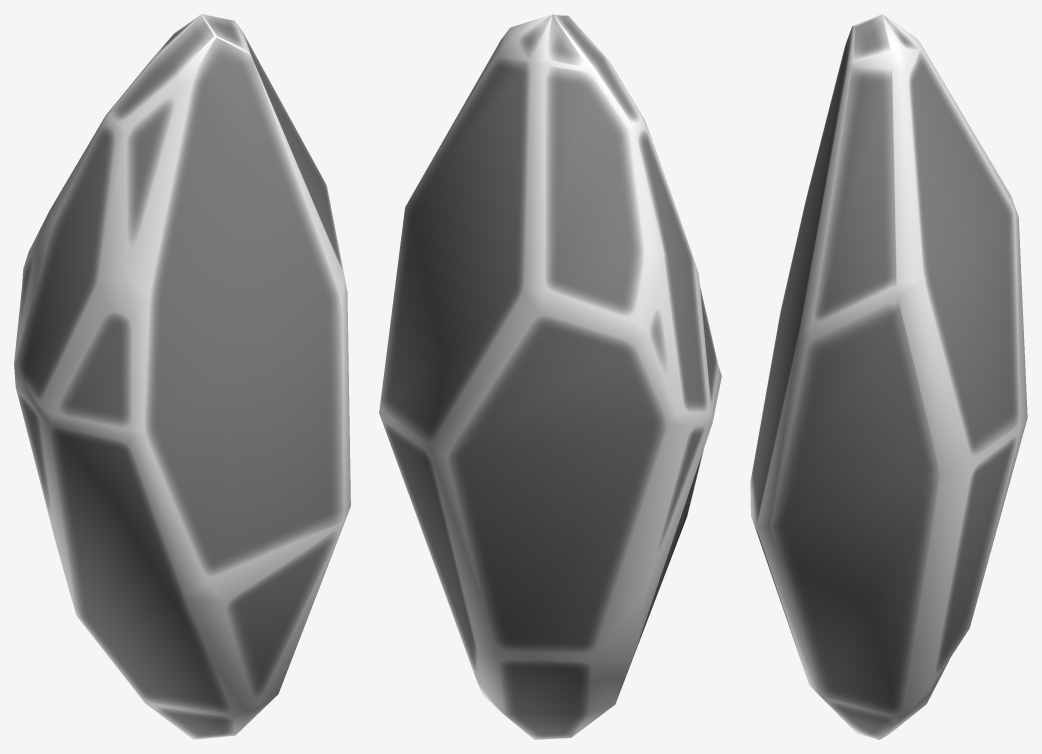
Rendered from Stone.fbx.
The picture shows the model from 3 angles, left to right: view 1: azimuth 30°, elevation 25°; view 2: azimuth 150°, elevation 25°; view 3: azimuth 270°, elevation 25°; orthographic projection.
Visible parts, largest first — view 1: Stone; view 2: Stone; view 3: Stone.
Part boxes in pixels (bbox=[...]): Stone: bbox=[14, 14, 350, 739]; Stone: bbox=[379, 14, 721, 739]; Stone: bbox=[750, 14, 1027, 739].
Size of the model in its own units: 31.97 by 74.28 by 26.17.
